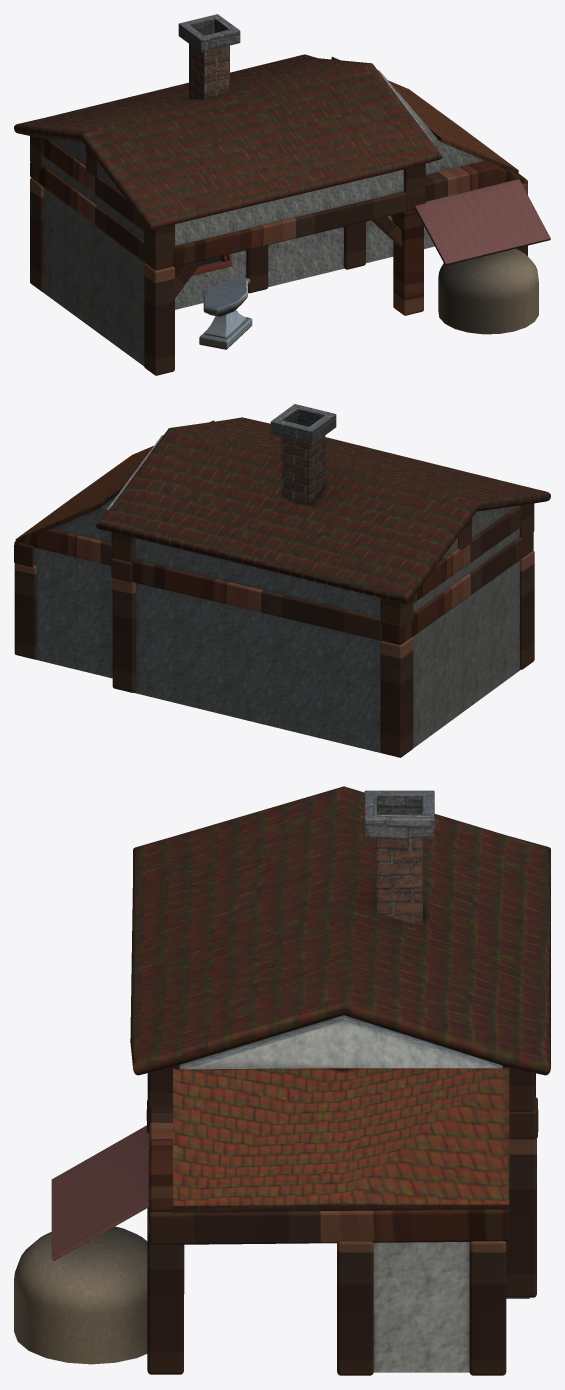
The model's file is HerreriaFBXTex.fbx.
3 views of the same model, one above another, from view 1: azimuth 30°, elevation 25°; view 2: azimuth 150°, elevation 25°; view 3: azimuth 270°, elevation 25° (orthographic). The views are drawn at different scales.
Parts seen in each view (by area): view 1: Geo_techoGrande, Geo_paredes, Geo_toldo, geo_FogonGrande, Geo_viga_01_h, Geo_Chimenea, Geo_viga_v1, Geo_viga_02_h, Geo_viga_v, Geo_Yunque, Geo_techoPeque, Geo_viga_05_h1 (+9 smaller); view 2: Geo_paredes, Geo_techoGrande, Geo_viga_03_h, Geo_Chimenea, Geo_viga_v2, Geo_viga_02_h, Geo_techoPeque, Geo_viga_v3, Geo_viga_02_h1, Geo_viga_v4, Geo_viga_05_h, Geo_viga_v1 (+4 smaller); view 3: Geo_techoGrande, Geo_techoPeque, Geo_paredes, geo_FogonGrande, Geo_viga_02_h2, Geo_toldo, Geo_Chimenea, Geo_viga_v4, Geo_viga_v5, Geo_viga_v6, Geo_viga_v3, Geo_viga_05_h1 (+3 smaller).
Boxes of the visible parts, x1=… form: Geo_techoGrande: x1=14, y1=54, x2=442, y2=230; Geo_paredes: x1=42, y1=70, x2=484, y2=366; Geo_toldo: x1=415, y1=179, x2=550, y2=265; geo_FogonGrande: x1=438, y1=248, x2=538, y2=334; Geo_viga_01_h: x1=173, y1=191, x2=406, y2=266; Geo_Chimenea: x1=178, y1=14, x2=240, y2=99; Geo_viga_v1: x1=144, y1=263, x2=174, y2=375; Geo_viga_02_h: x1=30, y1=162, x2=173, y2=270; Geo_viga_v: x1=393, y1=210, x2=423, y2=315; Geo_Yunque: x1=199, y1=276, x2=252, y2=349; Geo_techoPeque: x1=331, y1=57, x2=518, y2=173; Geo_viga_05_h1: x1=425, y1=160, x2=524, y2=201; Geo_paredes: x1=33, y1=435, x2=520, y2=757; Geo_techoGrande: x1=96, y1=417, x2=550, y2=604; Geo_viga_03_h: x1=130, y1=559, x2=381, y2=640; Geo_Chimenea: x1=270, y1=404, x2=336, y2=504; Geo_viga_v2: x1=380, y1=637, x2=413, y2=757; Geo_viga_02_h: x1=381, y1=532, x2=533, y2=644; Geo_techoPeque: x1=15, y1=420, x2=214, y2=543; Geo_viga_v3: x1=112, y1=578, x2=135, y2=692; Geo_viga_02_h1: x1=413, y1=505, x2=521, y2=602; Geo_viga_v4: x1=14, y1=563, x2=36, y2=659; Geo_viga_05_h: x1=19, y1=529, x2=111, y2=565; Geo_viga_v1: x1=520, y1=550, x2=534, y2=669; Geo_techoGrande: x1=130, y1=786, x2=550, y2=1075; Geo_techoPeque: x1=173, y1=1067, x2=509, y2=1212; Geo_paredes: x1=179, y1=1015, x2=529, y2=1372; geo_FogonGrande: x1=14, y1=1226, x2=147, y2=1364; Geo_viga_02_h2: x1=148, y1=1201, x2=509, y2=1244; Geo_toldo: x1=51, y1=1125, x2=149, y2=1260; Geo_Chimenea: x1=364, y1=790, x2=434, y2=926; Geo_viga_v4: x1=469, y1=1241, x2=506, y2=1375; Geo_viga_v5: x1=337, y1=1241, x2=373, y2=1375; Geo_viga_v6: x1=147, y1=1208, x2=183, y2=1374; Geo_viga_v3: x1=506, y1=1138, x2=536, y2=1297; Geo_viga_05_h1: x1=149, y1=1106, x2=172, y2=1212.
Bounding box in the file's own units: 14.58 × 9.33 × 11.49.
